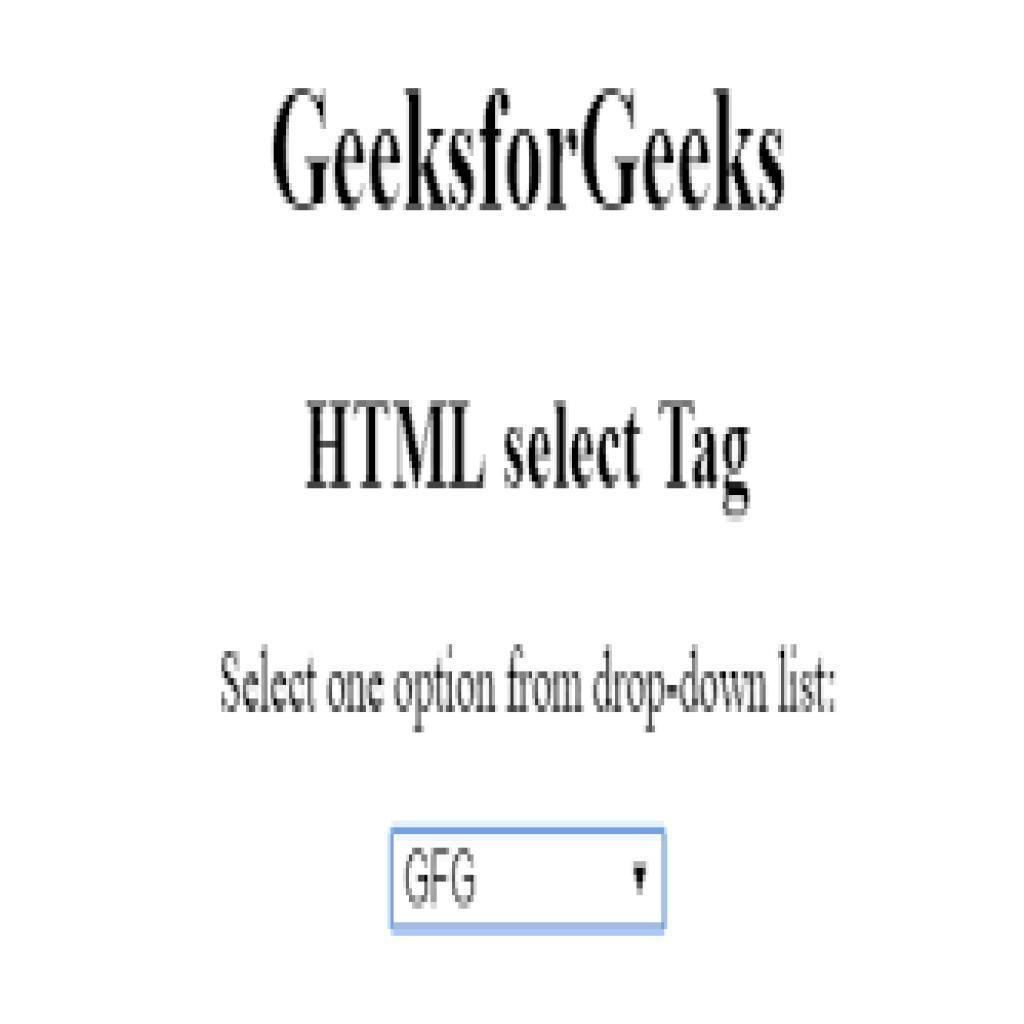dropdown: (392, 829, 668, 933)
label: (268, 85, 788, 215), (220, 642, 838, 735), (307, 397, 752, 522)
